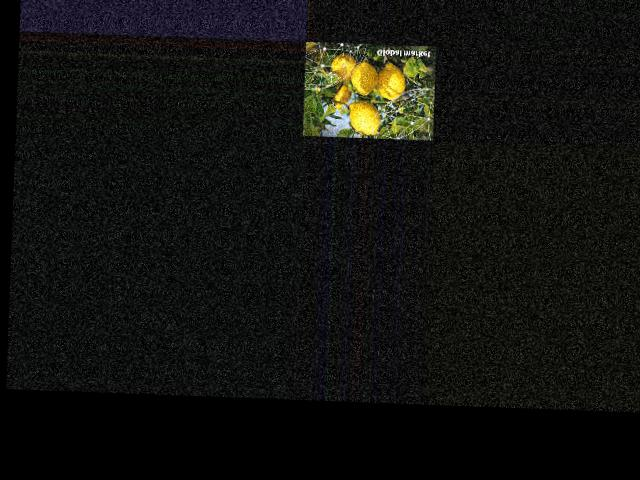lemon: (347, 98, 381, 137)
